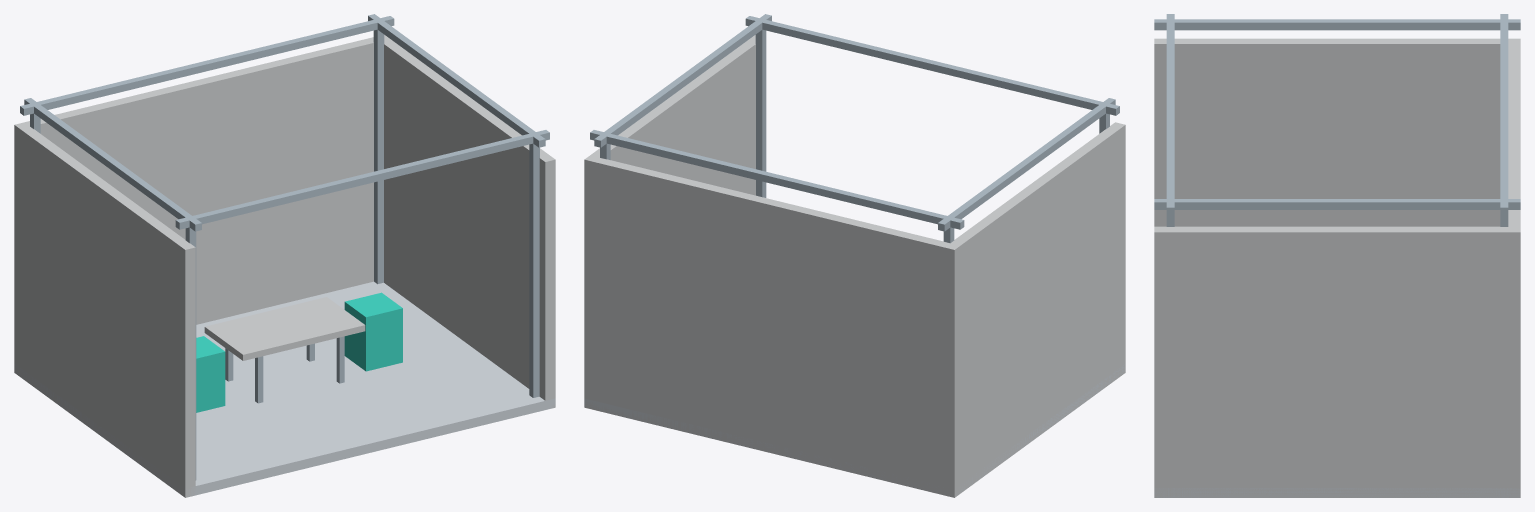
3 renders of one model, left to right at view 1: azimuth 30°, elevation 25°; view 2: azimuth 150°, elevation 25°; view 3: azimuth 270°, elevation 25°, orthographic. The views are drawn at different scales.
Visible parts, largest first — view 1: Exhibition Booth Concept; view 2: Exhibition Booth Concept; view 3: Exhibition Booth Concept.
Boxes of the visible parts, x1,y1,x2,y2 form: Exhibition Booth Concept: (14, 14, 555, 497); Exhibition Booth Concept: (584, 14, 1125, 497); Exhibition Booth Concept: (1154, 14, 1520, 497).
Size of the model in its own units: 5 by 3.49 by 4.
